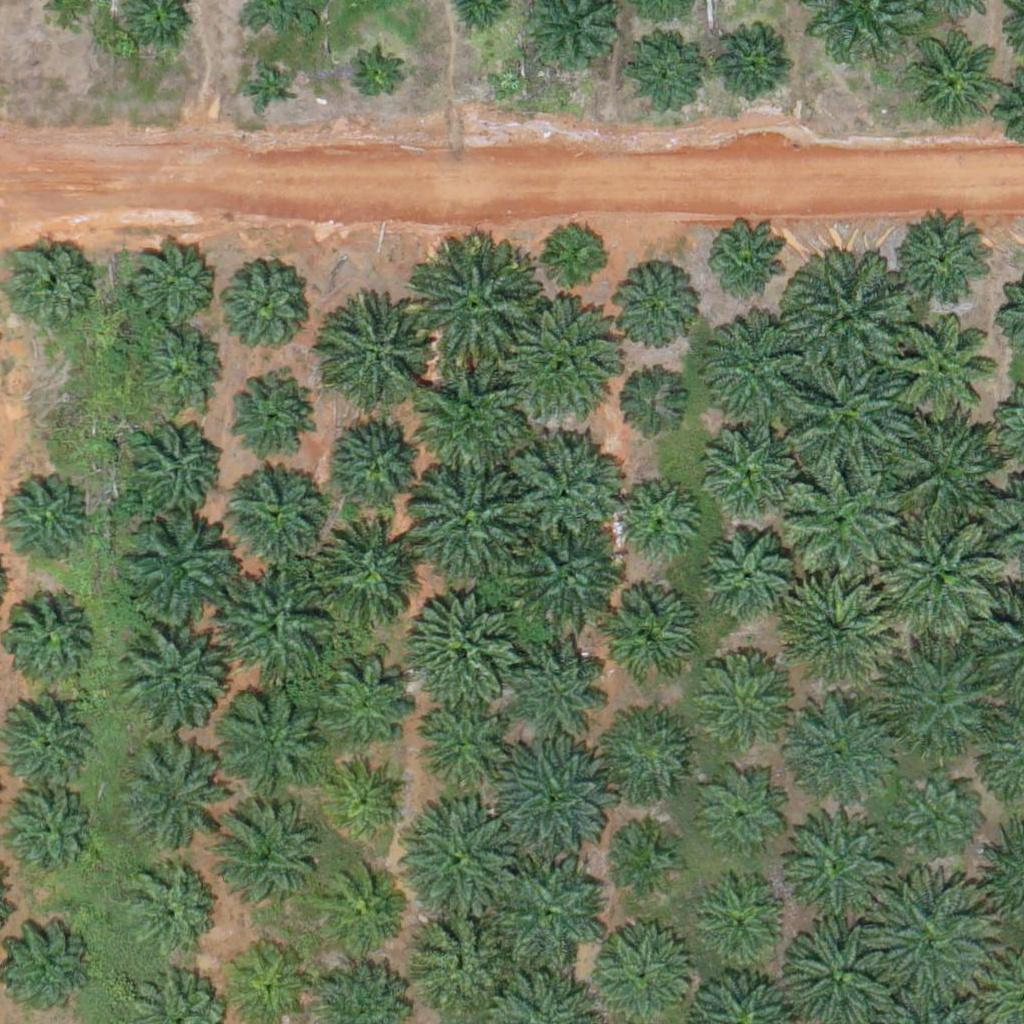Kelapa_Sawit: (862, 875, 987, 1001), (884, 514, 1009, 640), (783, 254, 908, 380), (413, 249, 538, 375), (787, 348, 912, 473), (777, 576, 890, 690), (513, 304, 626, 418), (309, 517, 422, 631), (887, 647, 1000, 760), (788, 461, 901, 574), (781, 810, 894, 923), (702, 309, 815, 422), (495, 739, 608, 852), (416, 367, 529, 480), (407, 468, 520, 581), (404, 588, 517, 701), (302, 648, 415, 761), (412, 806, 524, 920), (214, 682, 326, 796), (211, 798, 323, 912), (120, 514, 232, 628), (889, 414, 1001, 527), (779, 699, 891, 812), (494, 857, 606, 970), (513, 519, 625, 632), (508, 432, 620, 545), (219, 573, 331, 686), (896, 323, 996, 424), (894, 212, 994, 313), (511, 626, 611, 727), (331, 410, 431, 511), (215, 254, 315, 355), (115, 746, 215, 847), (600, 588, 700, 688), (415, 909, 515, 1009), (326, 308, 426, 408), (228, 464, 328, 564), (119, 633, 219, 733), (124, 417, 224, 517), (610, 266, 698, 355), (321, 756, 409, 844), (697, 878, 785, 966), (701, 424, 789, 512), (611, 478, 699, 566), (410, 702, 498, 790), (313, 868, 401, 956), (222, 370, 310, 458), (124, 864, 212, 952), (4, 239, 92, 327), (904, 34, 992, 122), (702, 220, 789, 308), (704, 654, 791, 742), (703, 528, 790, 616), (605, 709, 692, 797), (142, 325, 229, 413), (130, 242, 217, 330), (1, 923, 88, 1011), (612, 371, 687, 447), (707, 780, 782, 856), (717, 31, 792, 107), (628, 35, 703, 111), (901, 770, 976, 845), (546, 223, 609, 286), (614, 828, 677, 891), (350, 53, 400, 104), (243, 62, 293, 113)
